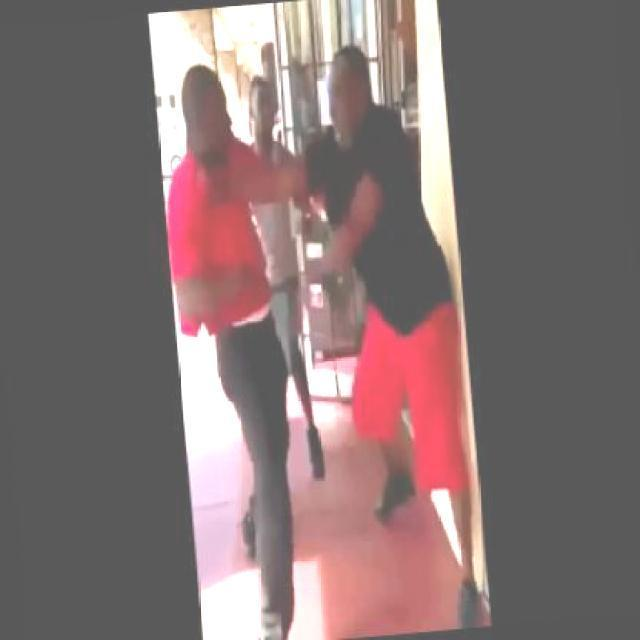fight: (153, 35, 476, 540)
